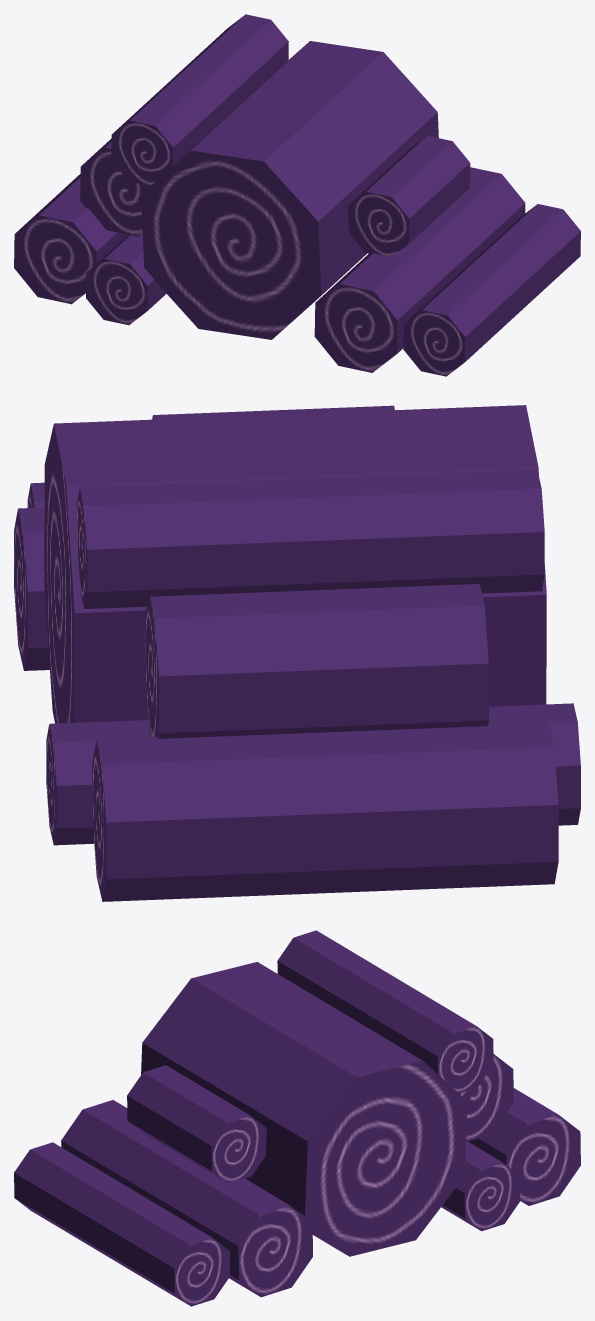
File: Asset_BlockForest_Logs_01.fbx
3 views of the same model, one above another, from view 1: azimuth 30°, elevation 25°; view 2: azimuth 150°, elevation 25°; view 3: azimuth 270°, elevation 25° (orthographic). The views are drawn at different scales.
Visible parts, largest first — view 1: pCylinder2, pCylinder6, pCylinder8, pCylinder5, pCylinder7, pCylinder3, pCylinder1, pCylinder4; view 2: pCylinder3, pCylinder2, pCylinder5, pCylinder4, pCylinder1, pCylinder6, pCylinder7; view 3: pCylinder2, pCylinder6, pCylinder8, pCylinder5, pCylinder7, pCylinder3, pCylinder1, pCylinder4.
Part boxes in pixels (x1,y1,x2,y2): pCylinder2: (141,41,438,339); pCylinder6: (314,167,525,372); pCylinder8: (403,204,580,376); pCylinder5: (111,14,288,186); pCylinder7: (348,135,470,257); pCylinder3: (14,174,127,304); pCylinder1: (86,233,166,325); pCylinder4: (80,138,149,236); pCylinder3: (92,721,558,901); pCylinder2: (44,405,546,723); pCylinder5: (77,469,544,608); pCylinder4: (145,584,488,738); pCylinder1: (46,703,580,845); pCylinder6: (14,507,49,670); pCylinder7: (152,405,394,419); pCylinder2: (141,962,467,1256); pCylinder6: (61,1100,312,1297); pCylinder8: (14,1142,230,1306); pCylinder5: (277,930,493,1093); pCylinder7: (127,1065,266,1182); pCylinder3: (468,1088,580,1205); pCylinder1: (441,1142,520,1231); pCylinder4: (459,1054,513,1142).
Bounding box in the file's own units: 61.01 × 26.1 × 67.34.
